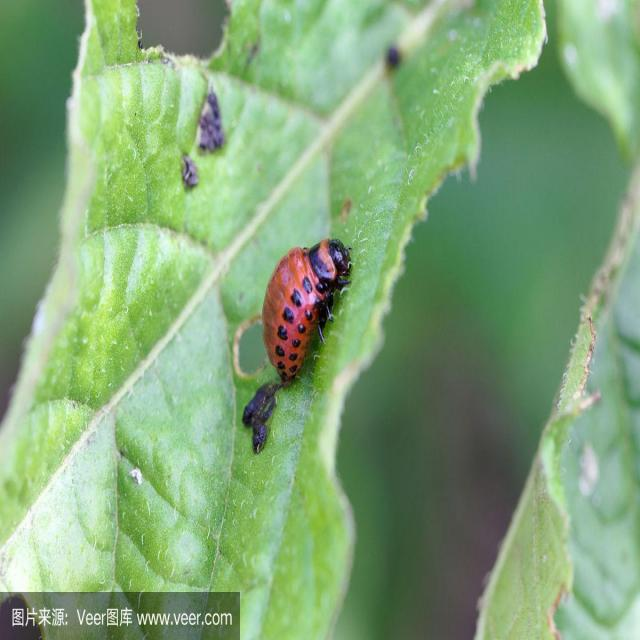ShuCaiHuaBanChong-Larva-: (251, 223, 353, 394)
